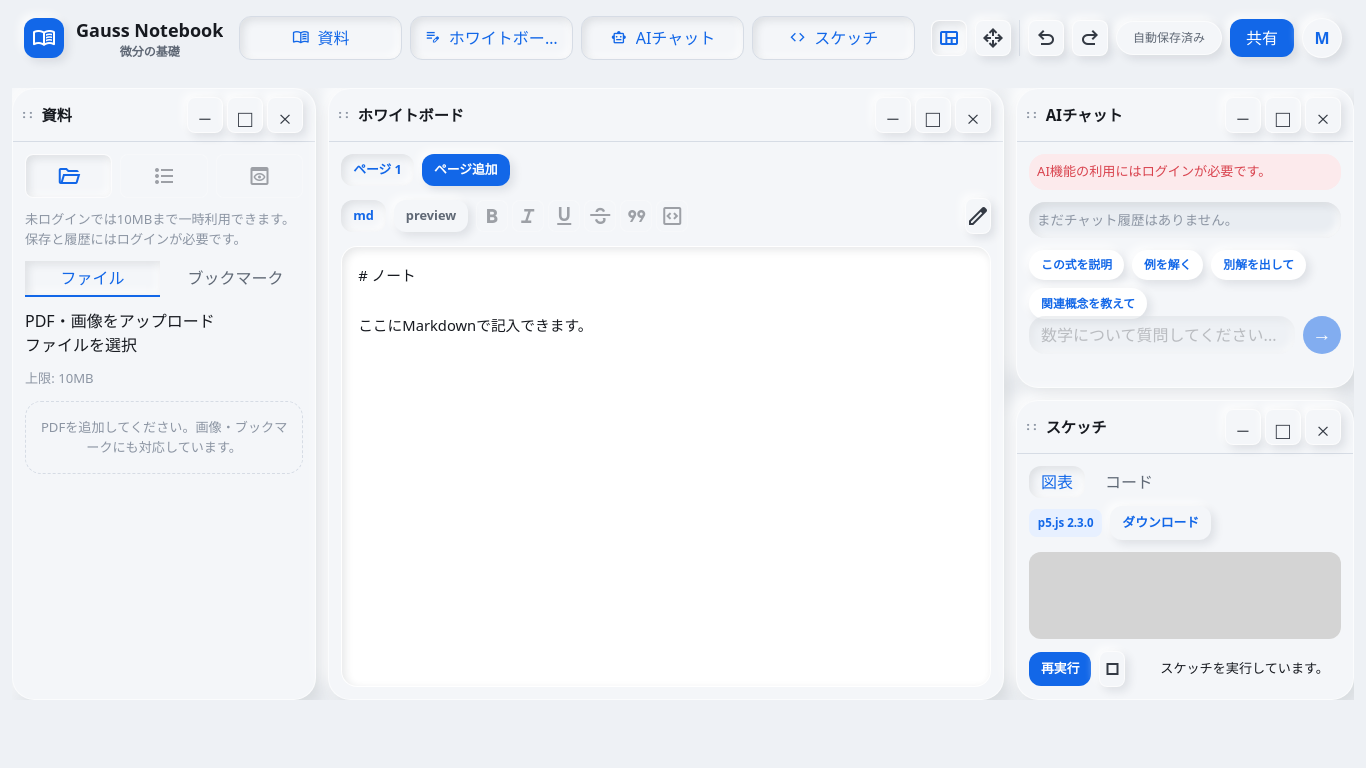
WorkspaceView › 最大化中はパネル以外のワークスペース操作を隠す
Step 1. Click the 2nd button named "最大化" → (933, 115), box x1=915 y1=97 x2=951 y2=133
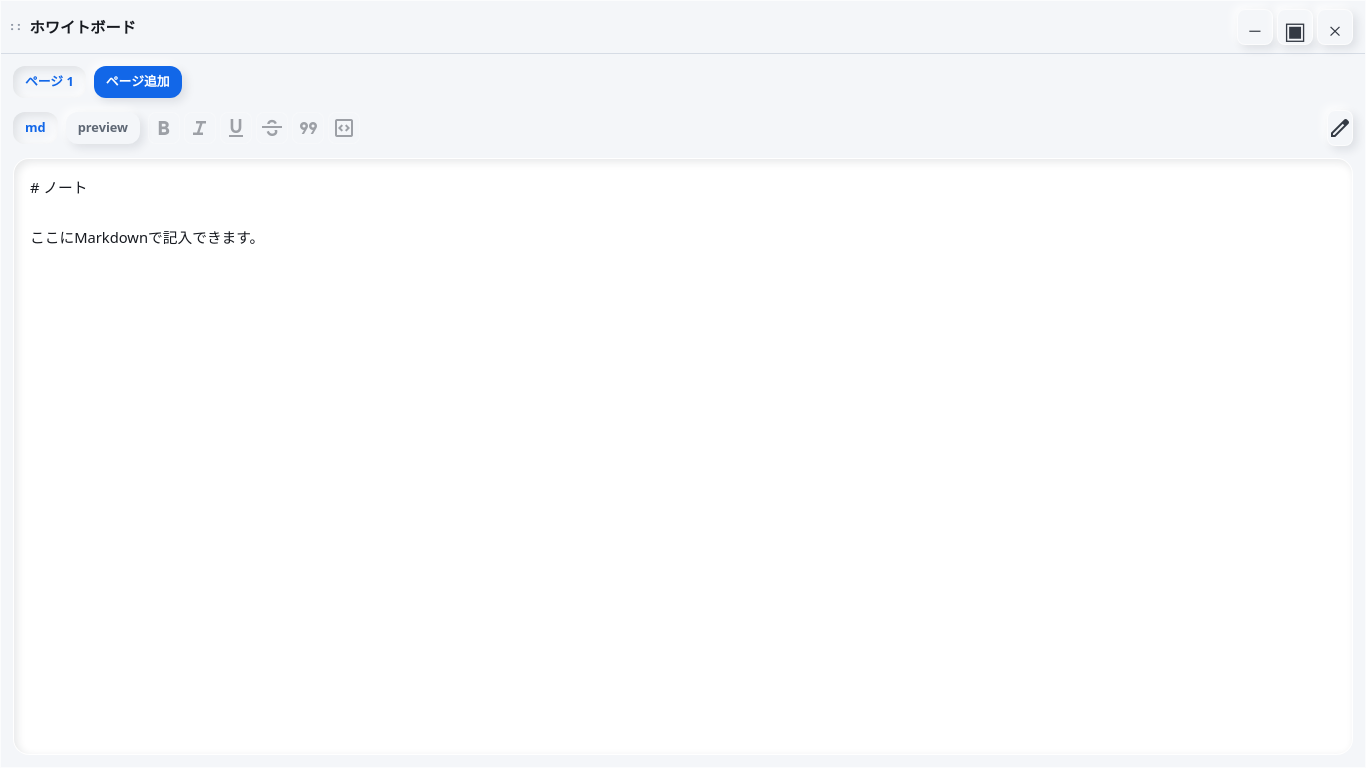
Check: the button named "復元" is shown, box x1=1277 y1=9 x2=1313 y2=45
Check: the number of elements with class "movable-panel" is 1
Check: the number of elements with class "movable-panel__body--maximized" is 1
